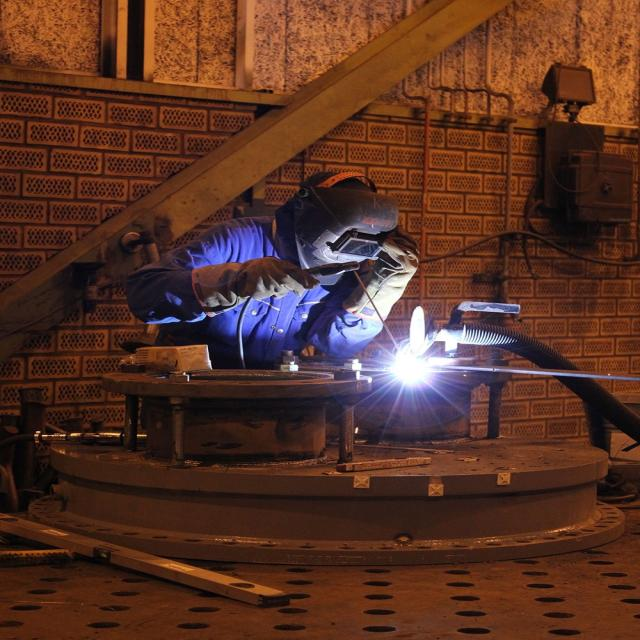welding: (387, 351, 432, 384)
